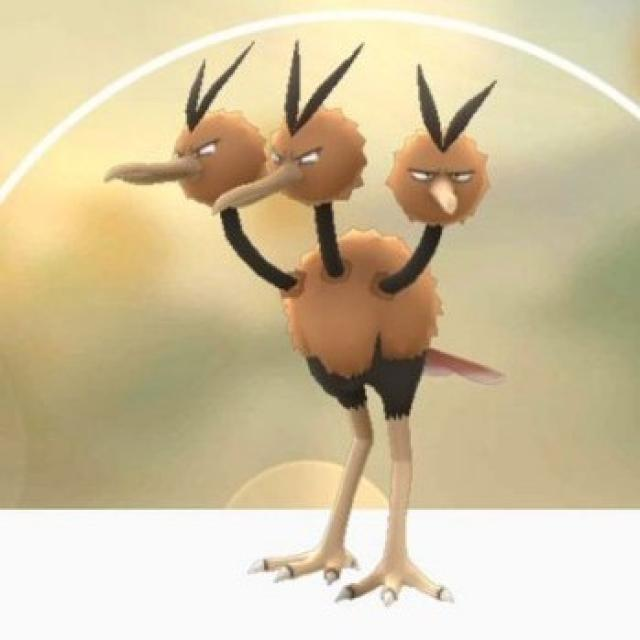Dodrio: (140, 91, 500, 602)
